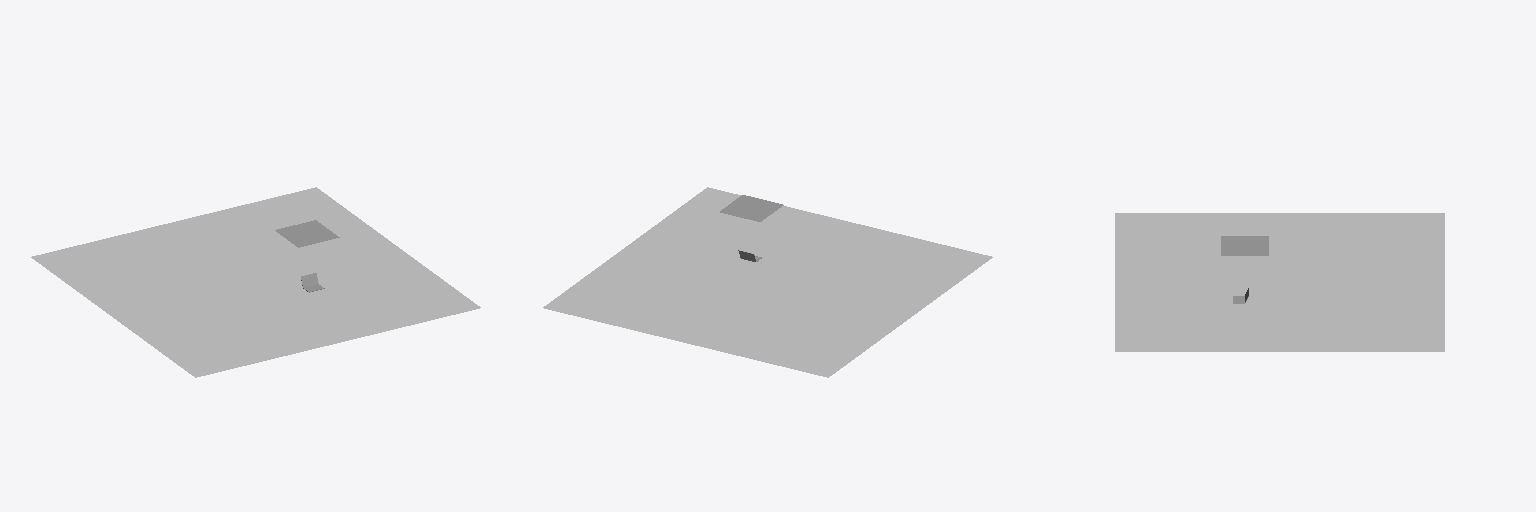
Rendered from laptop.obj.
The picture shows the model from 3 angles: view 1: azimuth 30°, elevation 25°; view 2: azimuth 150°, elevation 25°; view 3: azimuth 270°, elevation 25°; orthographic projection.
Visible parts, largest first — view 1: Plane_Plane.001, Plane.001_Plane.003; view 2: Plane_Plane.001, Plane.001_Plane.003; view 3: Plane_Plane.001, Plane.001_Plane.003.
Boxes of the visible parts, x1=… form: Plane_Plane.001: x1=31, y1=187, x2=480, y2=377; Plane.001_Plane.003: x1=275, y1=220, x2=339, y2=247; Plane_Plane.001: x1=543, y1=187, x2=992, y2=377; Plane.001_Plane.003: x1=720, y1=195, x2=783, y2=221; Plane_Plane.001: x1=1115, y1=213, x2=1444, y2=351; Plane.001_Plane.003: x1=1221, y1=236, x2=1268, y2=255.
Bounding box in the file's own units: 111 × 19.71 × 111.